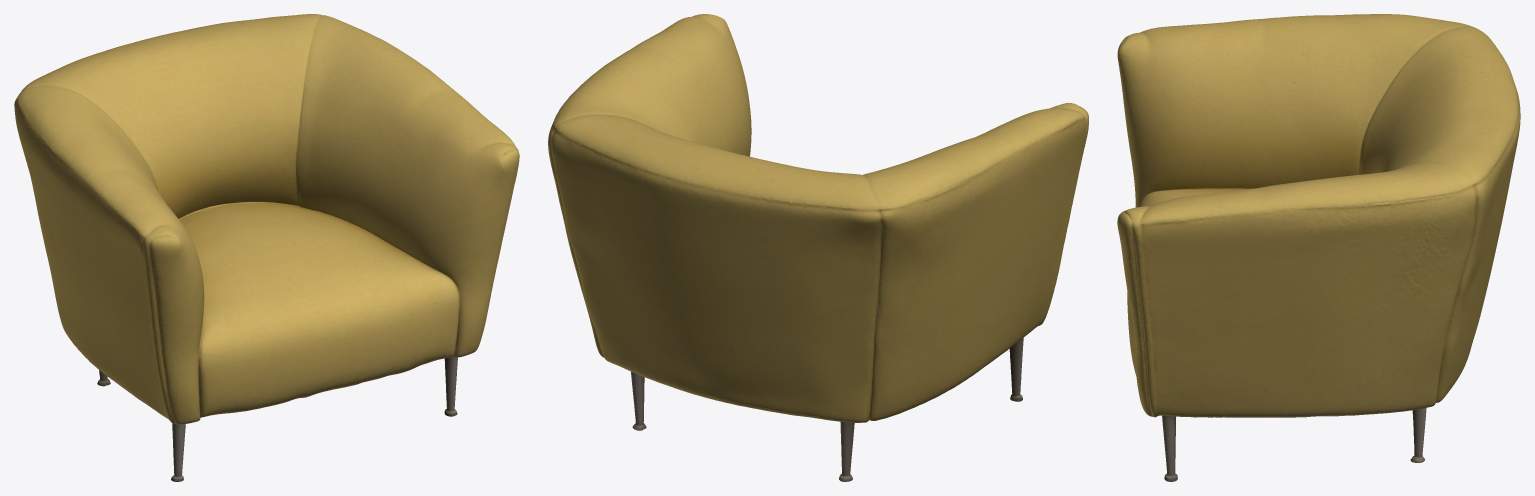
File: asset.glb
3 renders of one model, left to right at view 1: azimuth 30°, elevation 25°; view 2: azimuth 150°, elevation 25°; view 3: azimuth 270°, elevation 25°, orthographic. The views are drawn at different scales.
Parts seen in each view (by area): view 1: geometry_0; view 2: geometry_0; view 3: geometry_0.
Part boxes in pixels (x1=…): geometry_0: x1=14, y1=14, x2=519, y2=481; geometry_0: x1=548, y1=14, x2=1088, y2=481; geometry_0: x1=1117, y1=14, x2=1520, y2=481.
Size of the model in its own units: 1 by 0.7625 by 0.8817.
Materials: 1 (1 with a texture image).
